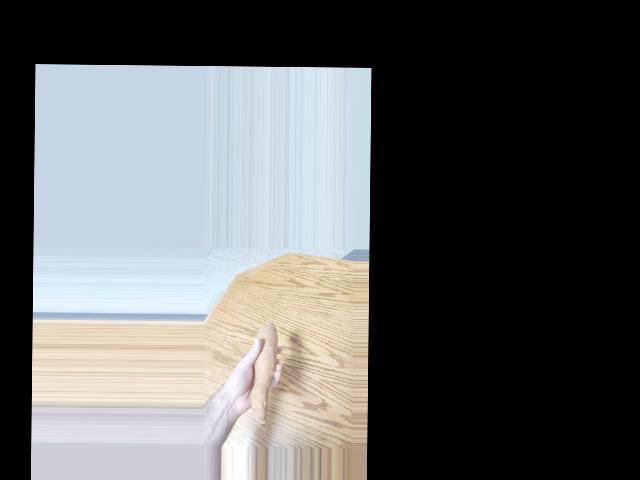sweet_potato: (245, 316, 278, 427)
